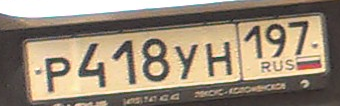character: (76, 41, 110, 89), (139, 36, 171, 84), (110, 38, 139, 86), (205, 40, 235, 79), (173, 43, 199, 81), (45, 54, 70, 93), (243, 23, 267, 62), (288, 21, 312, 55), (268, 23, 288, 61)
